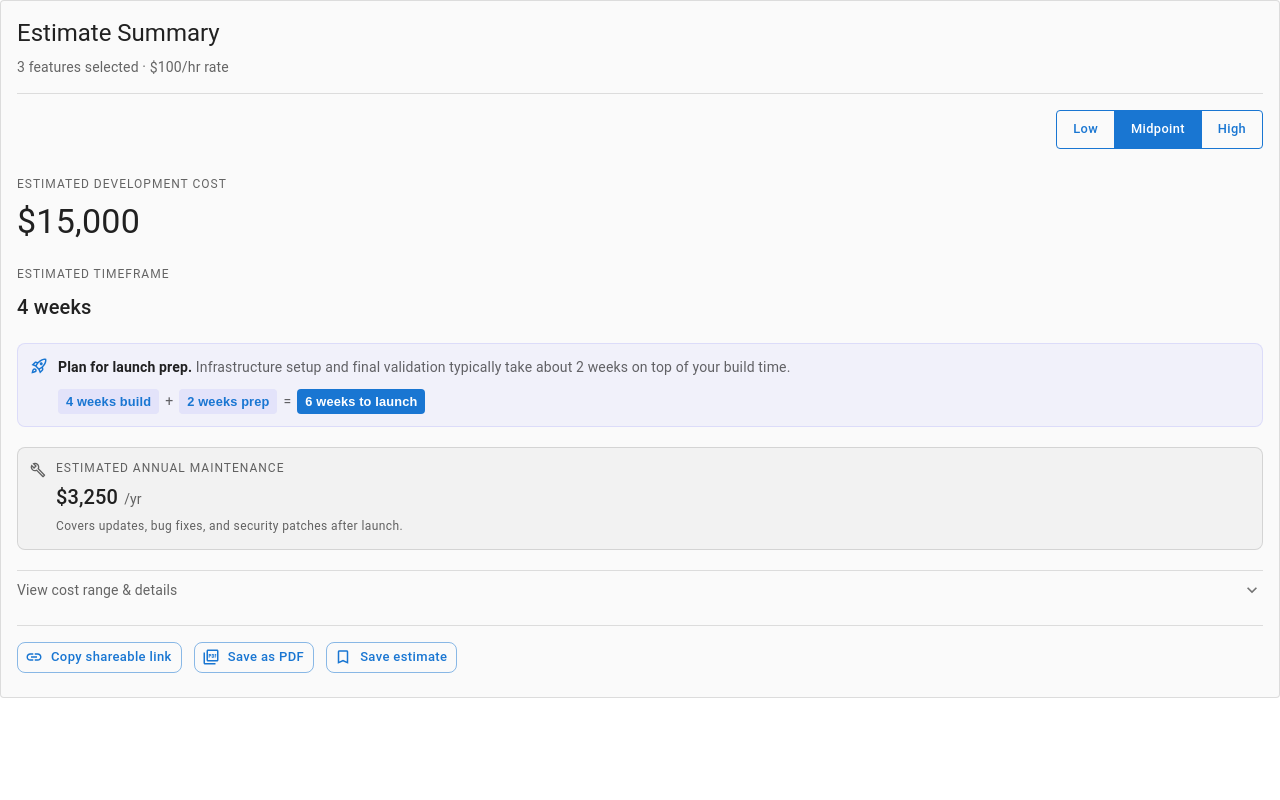
Test: EstimateResults › save estimate flow (lines 70-75, 458-494) › clicking 'Save estimate' reveals the name input
Click the button "Save estimate" at point(392, 658), box x1=326 y1=642 x2=457 y2=673
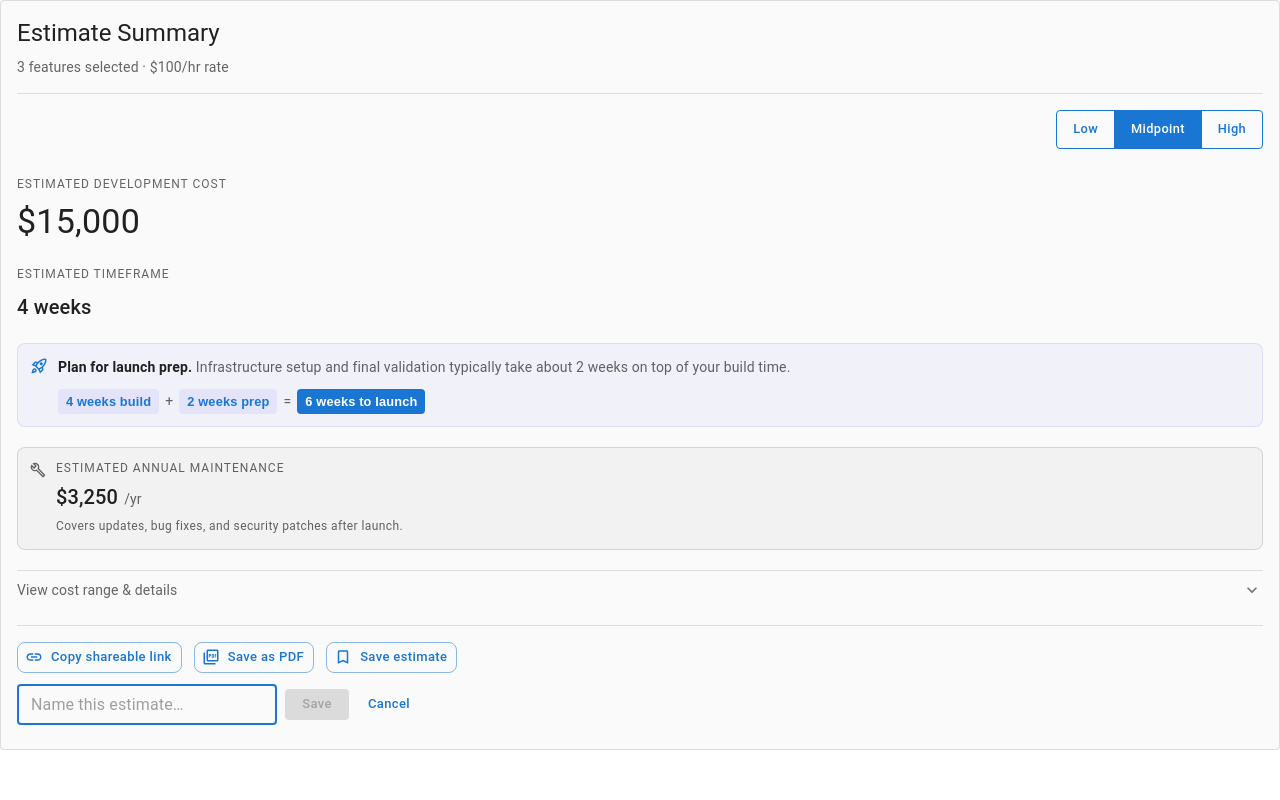
Expected: the field with placeholder "Name this estimate…" is shown, x1=17 y1=685 x2=277 y2=725
